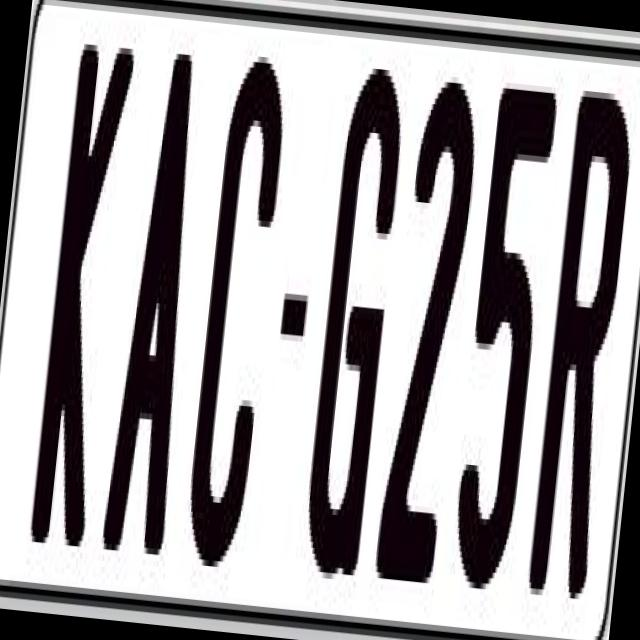2: (370, 61, 484, 578)
5: (444, 81, 563, 614)
A: (99, 51, 212, 560)
C: (176, 53, 292, 586)
G: (296, 48, 408, 576)
K: (30, 38, 144, 542)
R: (522, 78, 638, 605)
